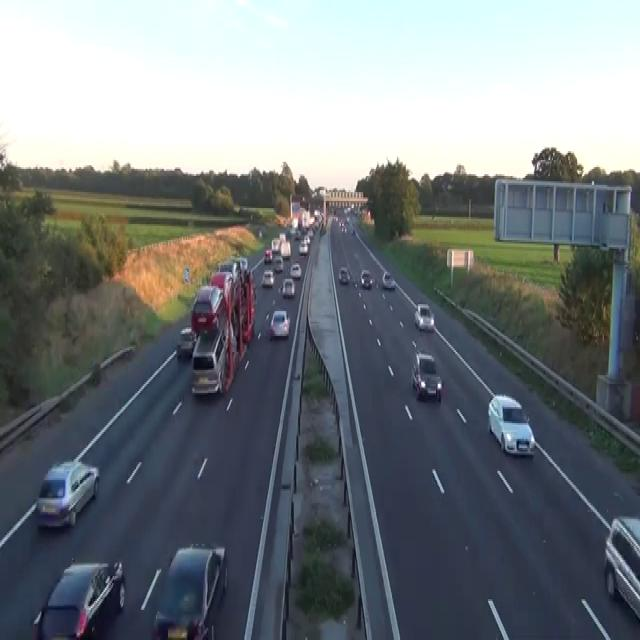Car: (151, 540, 228, 638), (32, 558, 125, 638), (35, 459, 99, 528), (603, 514, 639, 622), (487, 393, 535, 455), (190, 324, 226, 394), (410, 350, 442, 402), (191, 284, 224, 334), (91, 345, 135, 382), (175, 325, 197, 359), (268, 310, 290, 340), (413, 302, 434, 331), (209, 270, 231, 292), (281, 277, 295, 297), (381, 270, 395, 288), (360, 268, 372, 288), (261, 268, 274, 286), (217, 261, 233, 274), (280, 240, 291, 258), (289, 263, 301, 279), (236, 256, 248, 272), (91, 361, 100, 382), (338, 266, 349, 282), (123, 345, 135, 359), (273, 256, 283, 272), (298, 240, 308, 254), (264, 247, 272, 263), (271, 237, 280, 250), (319, 222, 326, 235), (294, 228, 300, 240), (287, 226, 294, 236), (314, 208, 320, 219), (340, 222, 346, 233), (279, 233, 286, 242), (304, 234, 310, 243), (258, 228, 262, 238), (333, 215, 338, 222), (351, 226, 355, 234)
Truck: (190, 256, 256, 396)
